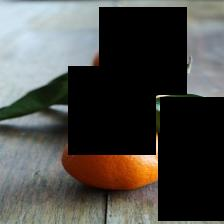orange: (63, 122, 174, 190), (80, 74, 163, 123), (94, 41, 170, 80), (126, 103, 148, 127)
